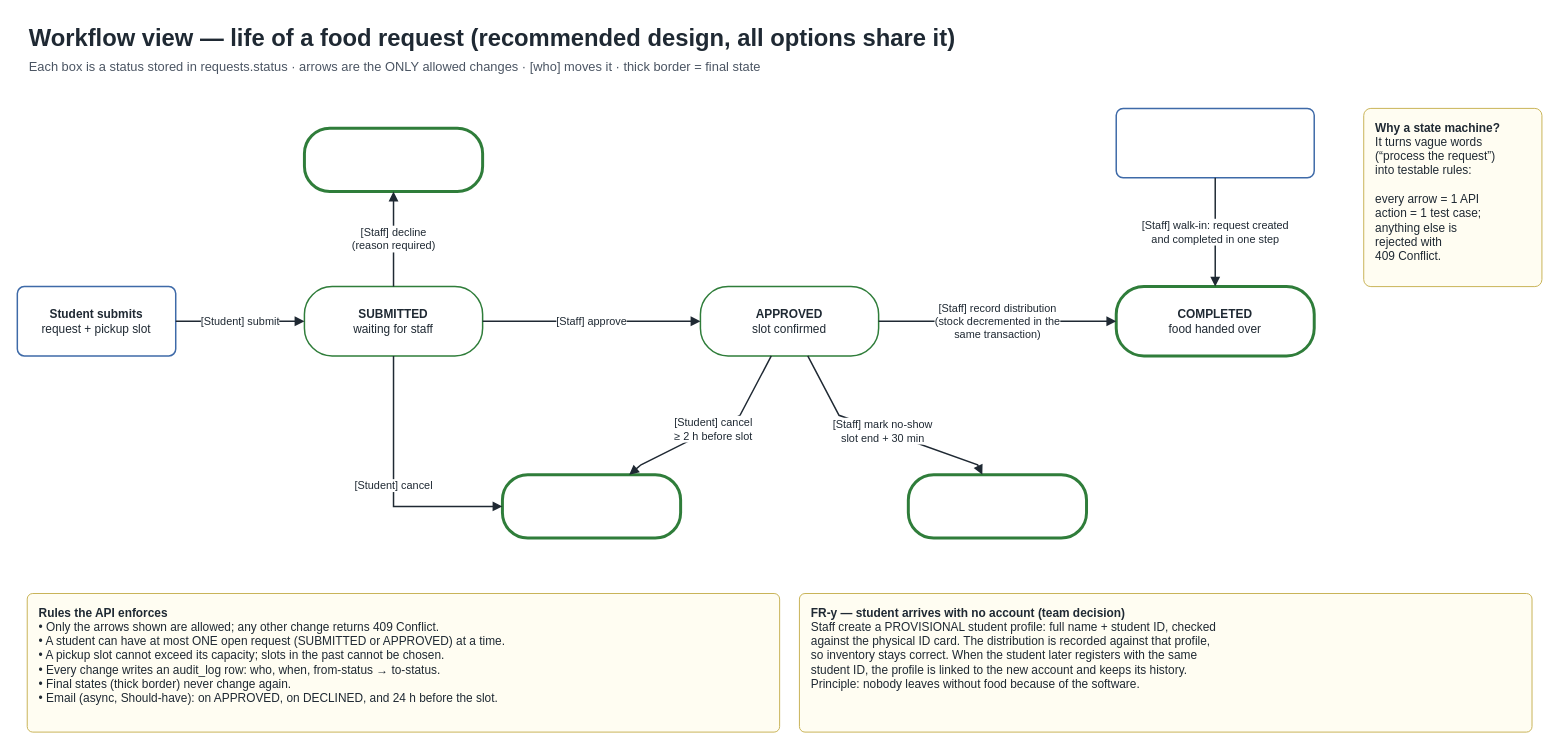
Some shapes in this 1560 by 749 pixel diagram are drawn without their labels. The centre of each missing label's shape, as x and y in pixels:
"CANCELLED by the student" belongs at [591,506].
"DECLINED reason stored" belongs at [393,159].
"NO_SHOW slot missed" belongs at [997,506].
"Walk-in student no request made in advance" belongs at [1215,142].
